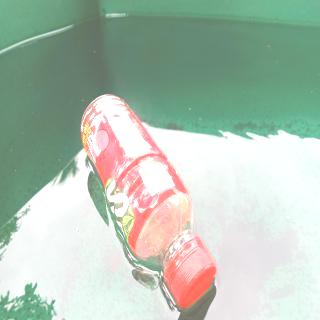bottle: (78, 93, 220, 310)
